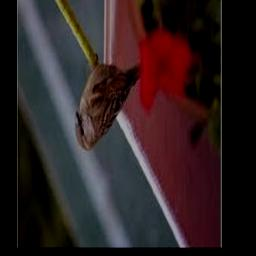Sparrow: (74, 53, 142, 152)
